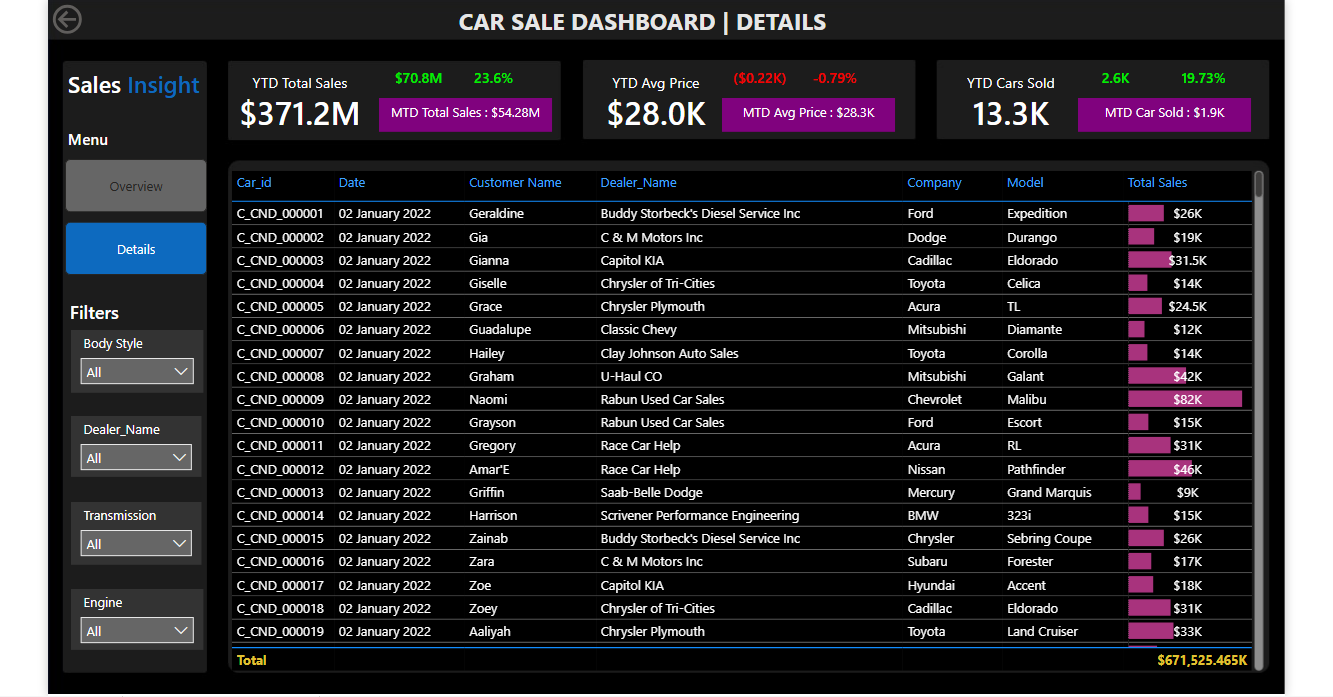

The page's visual inventory and layout, read from the dashboard file:
{"tool":"powerbi","page":{"name":"Details","canvas":[1280,720],"ordinal":1},"visuals":[{"type":"card","title":"YTD Total Sales","fields":{"Values":["_Measure.YTD Total Sales"]},"box":[191.9,75.6,138.4,61.6],"z":0},{"type":"card","fields":{"Values":["_Measure.Sales Difference"]},"box":[344.4,67.9,77.8,28.4],"z":1000},{"type":"card","fields":{"Values":["_Measure.YOY Sales Growth"]},"box":[422.2,67.9,77.8,28.4],"z":2000},{"type":"card","title":"MTD Total Sales","fields":{"Values":["_Measure.MTD KPI"]},"box":[342,101.2,179,34.6],"z":3000},{"type":"card","title":"YTD Avg Price","fields":{"Values":["_Measure.YTD Avg Price"]},"box":[559.3,75.3,138.3,61.7],"z":4000},{"type":"card","fields":{"Values":["_Measure.Avg Price Diff"]},"box":[697.5,67.9,77.8,28.4],"z":5000},{"type":"card","fields":{"Values":["_Measure.YOY Avg Price Growth"]},"box":[775.3,67.9,77.8,28.4],"z":6000},{"type":"card","title":"MTD Total Sales","fields":{"Values":["_Measure.MTD Avg Price KPI"]},"box":[697.5,101.2,179,34.6],"z":7000},{"type":"card","title":"YTD Cars Sold","fields":{"Values":["_Measure.YTD Cars Sold"]},"box":[927.2,75.3,138.3,61.7],"z":8000},{"type":"card","fields":{"Values":["_Measure.Cars Sold Diff"]},"box":[1065.4,67.9,77.8,28.4],"z":9000},{"type":"card","fields":{"Values":["_Measure.YOY Car Sold Growth"]},"box":[1156.8,67.9,77.8,28.4],"z":10000},{"type":"card","title":"MTD Total Sales","fields":{"Values":["_Measure.MTD Car Sold KPI"]},"box":[1065.4,101.2,179,34.6],"z":11000},{"type":"textbox","box":[420,0,435.7,42.9],"z":12000},{"type":"slicer","fields":{"Values":["car_data.Body Style"]},"box":[23.8,341.3,136.5,65.1],"z":13000},{"type":"slicer","fields":{"Values":["car_data.Dealer_Name"]},"box":[23.8,430.2,134.9,63.5],"z":14000},{"type":"slicer","fields":{"Values":["car_data.Transmission"]},"box":[23.8,519,134.9,65.1],"z":15000},{"type":"slicer","fields":{"Values":["car_data.Engine"]},"box":[23.8,609.5,136.5,63.5],"z":16000},{"type":"tableEx","fields":{"Values":["car_data.Car_id","car_data.Date","car_data.Customer Name","car_data.Dealer_Name","car_data.Company","car_data.Model","car_data.Price ($)"]},"box":[184.1,171.4,1077.8,527],"z":17000},{"type":"actionButton","box":[0,0,100,40],"z":18000},{"type":"pageNavigator","box":[17.3,164.8,147.5,120],"z":18001},{"type":"textbox","box":[15.9,65.1,161.9,44.8],"z":18002},{"type":"textbox","box":[15.9,128.6,58.7,38.1],"z":18003},{"type":"textbox","box":[17.5,304.8,74.6,36.5],"z":18004}]}

Visuals, with their boxes on the page's 1280x720 design canvas (x1, y1, x2, y2). These are canvas units, not pixel positions in the 1333x697 screenshot, which may show the page scaled, cropped or inside an application window:
"YTD Total Sales" card: 192 76 330 137
card - _Measure.Sales Difference: 344 68 422 96
card - _Measure.YOY Sales Growth: 422 68 500 96
"MTD Total Sales" card: 342 101 521 136
"YTD Avg Price" card: 559 75 698 137
card - _Measure.Avg Price Diff: 698 68 775 96
card - _Measure.YOY Avg Price Growth: 775 68 853 96
"MTD Total Sales" card: 698 101 876 136
"YTD Cars Sold" card: 927 75 1066 137
card - _Measure.Cars Sold Diff: 1065 68 1143 96
card - _Measure.YOY Car Sold Growth: 1157 68 1235 96
"MTD Total Sales" card: 1065 101 1244 136
textbox: 420 0 856 43
slicer - car_data.Body Style: 24 341 160 406
slicer - car_data.Dealer_Name: 24 430 159 494
slicer - car_data.Transmission: 24 519 159 584
slicer - car_data.Engine: 24 610 160 673
tableEx - car_data.Car_id x car_data.Date: 184 171 1262 698
actionButton: 0 0 100 40
pageNavigator: 17 165 165 285
textbox: 16 65 178 110
textbox: 16 129 75 167
textbox: 18 305 92 341
